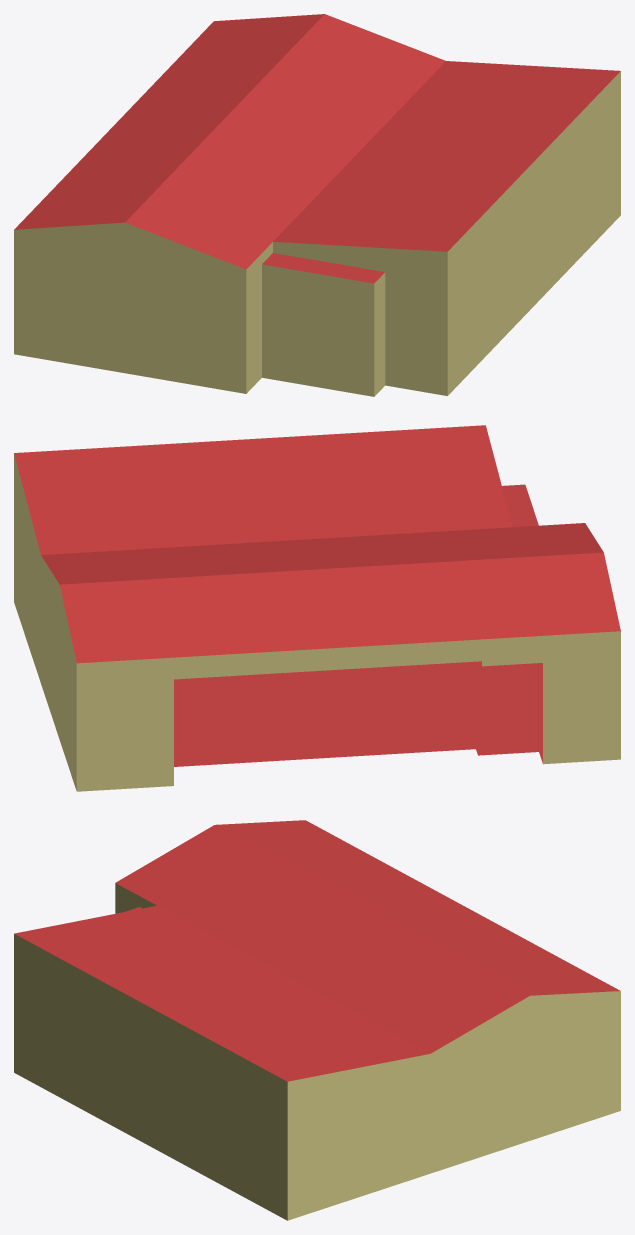
The picture shows the model from 3 angles, top to bottom: view 1: azimuth 30°, elevation 25°; view 2: azimuth 150°, elevation 25°; view 3: azimuth 270°, elevation 25°; orthographic projection. The views are drawn at different scales.
Size of the model in its own units: 56.67 by 51.76 by 13.65.
